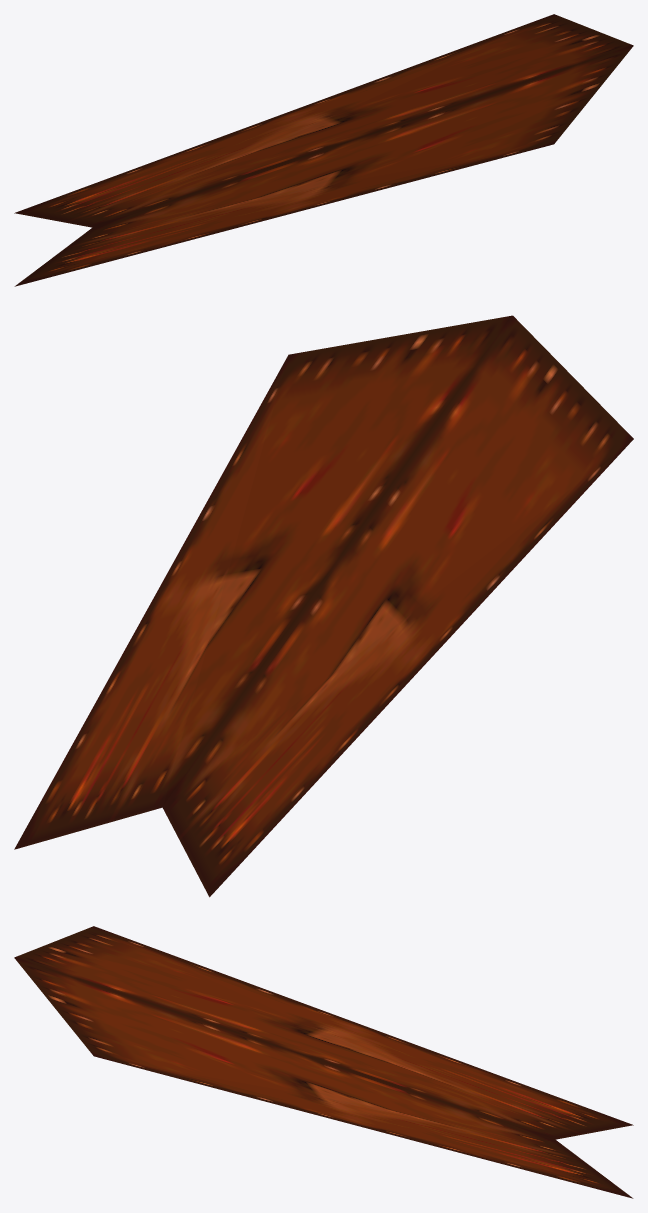
Rendered from Schiff_Heck4_1262.glb.
The picture shows the model from 3 angles, top to bottom: view 1: azimuth 90°, elevation 25°; view 2: azimuth 150°, elevation 25°; view 3: azimuth 270°, elevation 25°; orthographic projection. The views are drawn at different scales.
Visible parts, largest first — view 1: pPlaneShape28, pPlaneShape49; view 2: pPlaneShape28, pPlaneShape49; view 3: pPlaneShape49, pPlaneShape28.
Boxes of the visible parts, x1,y1,x2,y2 form: pPlaneShape28: (14, 45, 633, 286); pPlaneShape49: (14, 14, 633, 227); pPlaneShape28: (162, 316, 633, 897); pPlaneShape49: (14, 315, 512, 849); pPlaneShape49: (14, 957, 633, 1198); pPlaneShape28: (14, 926, 633, 1139).
Bounding box in the file's own units: 0.8799 × 0.6439 × 1.77.
2 materials, 2 textured.
